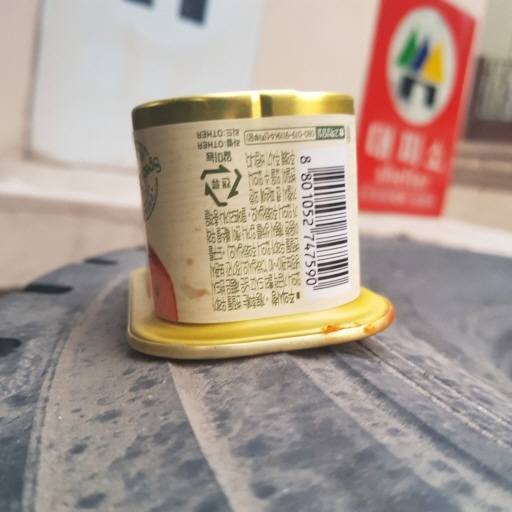Metal_2: (121, 88, 396, 368)
